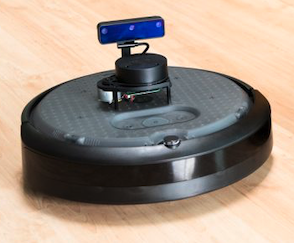turtlebot: (15, 8, 280, 214)
